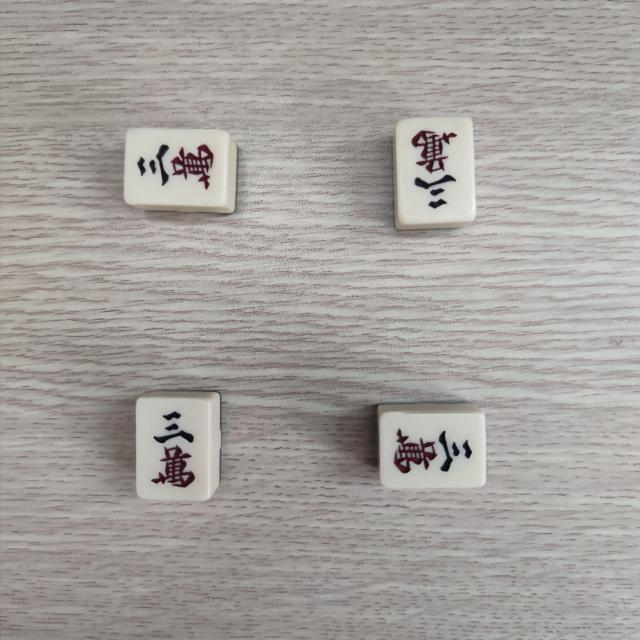sc3: (130, 133, 224, 200), (388, 416, 480, 484), (142, 401, 206, 496), (403, 124, 468, 214)
